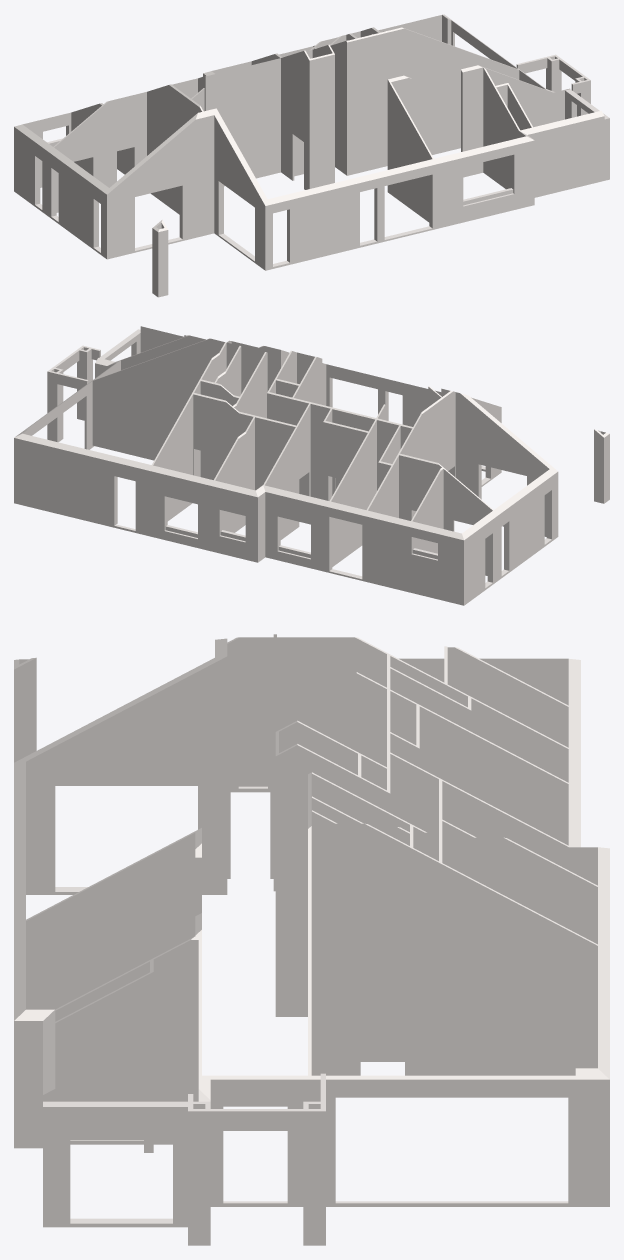
Rendered from Noosa-walls.DAE.
The picture shows the model from 3 angles, top to bottom: view 1: azimuth 30°, elevation 25°; view 2: azimuth 150°, elevation 25°; view 3: azimuth 270°, elevation 25°; orthographic projection. The views are drawn at different scales.
Parts seen in each view (by area): view 1: Basic Wall Brick veneer - 250 timber [203694], Basic Wall Stud timber - 70 [205238], Basic Wall Brick veneer - 250 timber [203796], Basic Wall Stud timber - 70 [205489], Basic Wall Brick veneer - 250 timber [203834], Basic Wall Brick veneer - 250 timber [203533], Basic Wall Stud timber - 70 [206176], Basic Wall Brick veneer - 250 timber [203746], Basic Wall Stud timber - 70 [206751], Basic Wall Stud timber - 70 [205655], Basic Wall Stud timber - 70 [205890], Basic Wall Stud timber - 70 [205737] (+17 smaller); view 2: Basic Wall Brick veneer - 250 timber [203972], Basic Wall Brick veneer - 250 timber [203892], Basic Wall Stud timber - 70 [205238], Basic Wall Brick veneer - 250 timber [203834], Basic Wall Brick veneer - 250 timber [203796], Basic Wall Stud timber - 70 [204973], Basic Wall Stud timber - 70 [205489], Basic Wall Stud timber - 70 [205890], Basic Wall Stud timber - 70 [206176], Basic Wall Stud timber - 70 [205776], Basic Wall Stud timber - 70 [204270], Basic Wall Brick veneer - 250 timber [203694] (+21 smaller); view 3: Basic Wall Stud timber - 70 [204270], Basic Wall Brick veneer - 250 timber [203746], Basic Wall Stud timber - 70 [205890], Basic Wall Stud timber - 70 [206751], Basic Wall Stud timber - 70 [206843], Basic Wall Stud timber - 90 [210116], Basic Wall Stud timber - 70 [205776], Basic Wall Stud timber - 70 [205563], Basic Wall Stud timber - 70 [204911], Basic Wall Brick veneer - 250 timber [203500], Basic Wall Brick - 110 [368867], Basic Wall Stud timber - 70 [205386] (+17 smaller).
Boxes of the visible parts, bbox=[...] form: Basic Wall Brick veneer - 250 timber [203694]: bbox=[262, 136, 529, 270]; Basic Wall Stud timber - 70 [205238]: bbox=[346, 27, 519, 175]; Basic Wall Brick veneer - 250 timber [203796]: bbox=[104, 109, 214, 259]; Basic Wall Stud timber - 70 [205489]: bbox=[172, 58, 280, 186]; Basic Wall Brick veneer - 250 timber [203834]: bbox=[14, 124, 108, 256]; Basic Wall Brick veneer - 250 timber [203533]: bbox=[524, 110, 604, 197]; Basic Wall Stud timber - 70 [206176]: bbox=[53, 92, 146, 212]; Basic Wall Brick veneer - 250 timber [203746]: bbox=[211, 108, 267, 267]; Basic Wall Stud timber - 70 [206751]: bbox=[387, 79, 433, 222]; Basic Wall Stud timber - 70 [205655]: bbox=[281, 50, 310, 189]; Basic Wall Stud timber - 70 [205890]: bbox=[117, 84, 203, 214]; Basic Wall Stud timber - 70 [205737]: bbox=[310, 53, 333, 188]; Basic Wall Brick veneer - 250 timber [203972]: bbox=[14, 433, 255, 561]; Basic Wall Brick veneer - 250 timber [203892]: bbox=[265, 486, 461, 604]; Basic Wall Stud timber - 70 [205238]: bbox=[92, 338, 267, 460]; Basic Wall Brick veneer - 250 timber [203834]: bbox=[458, 469, 554, 605]; Basic Wall Brick veneer - 250 timber [203796]: bbox=[446, 390, 558, 538]; Basic Wall Stud timber - 70 [204973]: bbox=[193, 393, 296, 490]; Basic Wall Stud timber - 70 [205489]: bbox=[267, 391, 412, 499]; Basic Wall Stud timber - 70 [205890]: bbox=[366, 391, 455, 517]; Basic Wall Stud timber - 70 [206176]: bbox=[399, 453, 493, 575]; Basic Wall Stud timber - 70 [205776]: bbox=[330, 404, 385, 566]; Basic Wall Stud timber - 70 [204270]: bbox=[152, 342, 226, 521]; Basic Wall Brick veneer - 250 timber [203694]: bbox=[231, 341, 501, 474]; Basic Wall Stud timber - 70 [204270]: bbox=[311, 810, 597, 1075]; Basic Wall Brick veneer - 250 timber [203746]: bbox=[26, 651, 227, 894]; Basic Wall Stud timber - 70 [205890]: bbox=[227, 637, 568, 878]; Basic Wall Stud timber - 70 [206751]: bbox=[26, 828, 201, 1009]; Basic Wall Stud timber - 70 [206843]: bbox=[55, 936, 201, 1144]; Basic Wall Stud timber - 90 [210116]: bbox=[202, 1075, 575, 1206]; Basic Wall Stud timber - 70 [205776]: bbox=[356, 672, 568, 845]; Basic Wall Stud timber - 70 [205563]: bbox=[275, 744, 386, 1016]; Basic Wall Stud timber - 70 [204911]: bbox=[442, 819, 597, 944]; Basic Wall Brick veneer - 250 timber [203500]: bbox=[43, 1101, 187, 1227]; Basic Wall Brick - 110 [368867]: bbox=[188, 1109, 325, 1245]; Basic Wall Stud timber - 70 [205386]: bbox=[390, 752, 568, 869].
Size of the model in its own units: 2234 by 630 by 1230.
